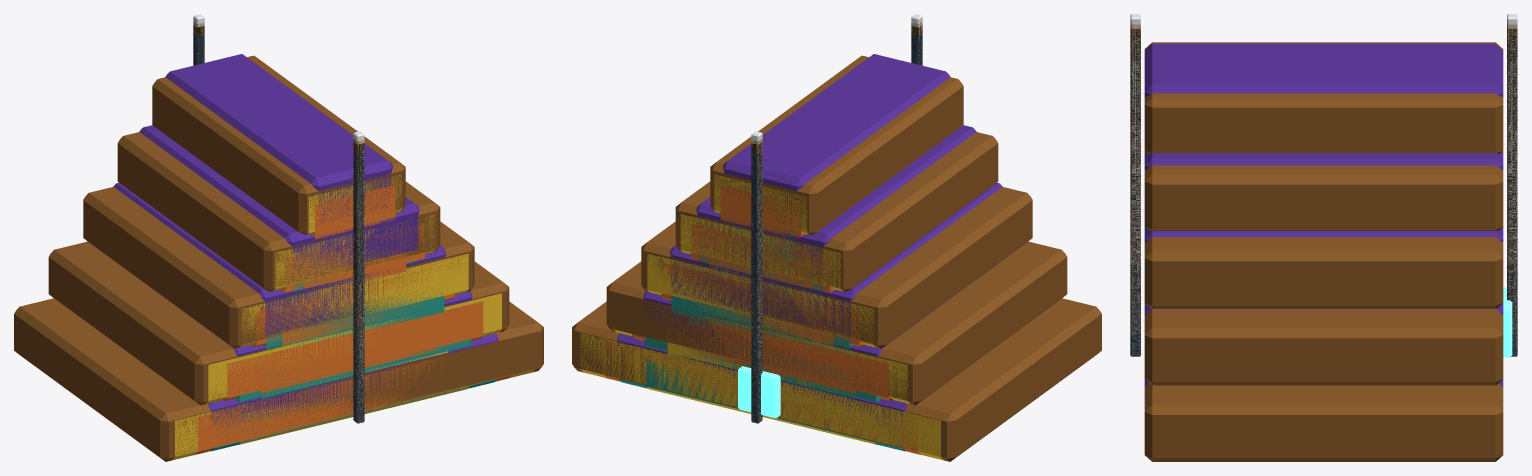
File: flagship_props_024.glb
3 renders of one model, left to right at view 1: azimuth 30°, elevation 25°; view 2: azimuth 150°, elevation 25°; view 3: azimuth 270°, elevation 25°, orthographic. The views are drawn at different scales.
Parts seen in each view (by area): view 1: Prop_BBIsle_Tent_03, Prop_BBIsle_Tent_04, Prop_BBIsle_Tent_00, Prop_BBIsle_Tent_01, Prop_BBIsle_Tent_08, Prop_BBIsle_Tent_07, Prop_BBIsle_Tent_05, Prop_BBIsle_Tent_02, Prop_BBIsle_Tent_06; view 2: Prop_BBIsle_Tent_03, Prop_BBIsle_Tent_04, Prop_BBIsle_Tent_01, Prop_BBIsle_Tent_00, Prop_BBIsle_Tent_08, Prop_BBIsle_Tent_05, Prop_BBIsle_Tent_07, Prop_BBIsle_Tent_02, Prop_BBIsle_Tent_06; view 3: Prop_BBIsle_Tent_03, Prop_BBIsle_Tent_04, Prop_BBIsle_Tent_08, Prop_BBIsle_Tent_01, Prop_BBIsle_Tent_00, Prop_BBIsle_Tent_05, Prop_BBIsle_Tent_02, Prop_BBIsle_Tent_06.
Part boxes in pixels (box(x1,y1,x2,y2)): Prop_BBIsle_Tent_03: box(14, 22, 543, 461); Prop_BBIsle_Tent_04: box(88, 14, 498, 433); Prop_BBIsle_Tent_00: box(193, 34, 511, 454); Prop_BBIsle_Tent_01: box(172, 25, 535, 460); Prop_BBIsle_Tent_08: box(49, 25, 540, 461); Prop_BBIsle_Tent_07: box(210, 182, 496, 451); Prop_BBIsle_Tent_05: box(195, 50, 471, 441); Prop_BBIsle_Tent_02: box(238, 200, 469, 444); Prop_BBIsle_Tent_06: box(239, 199, 468, 444); Prop_BBIsle_Tent_03: box(572, 21, 1101, 461); Prop_BBIsle_Tent_04: box(617, 14, 1027, 433); Prop_BBIsle_Tent_01: box(580, 25, 943, 460); Prop_BBIsle_Tent_00: box(603, 34, 922, 454); Prop_BBIsle_Tent_08: box(575, 25, 1066, 461); Prop_BBIsle_Tent_05: box(648, 49, 921, 441); Prop_BBIsle_Tent_07: box(619, 186, 905, 451); Prop_BBIsle_Tent_02: box(646, 200, 877, 444); Prop_BBIsle_Tent_06: box(647, 201, 876, 444); Prop_BBIsle_Tent_03: box(1130, 24, 1517, 461); Prop_BBIsle_Tent_04: box(1130, 14, 1517, 386); Prop_BBIsle_Tent_08: box(1130, 28, 1517, 385); Prop_BBIsle_Tent_01: box(1130, 28, 1517, 355); Prop_BBIsle_Tent_00: box(1130, 39, 1517, 357); Prop_BBIsle_Tent_05: box(1130, 56, 1517, 355); Prop_BBIsle_Tent_02: box(1130, 94, 1517, 354); Prop_BBIsle_Tent_06: box(1130, 96, 1517, 351).
Size of the model in its own units: 2.91 by 2.09 by 2.16.
